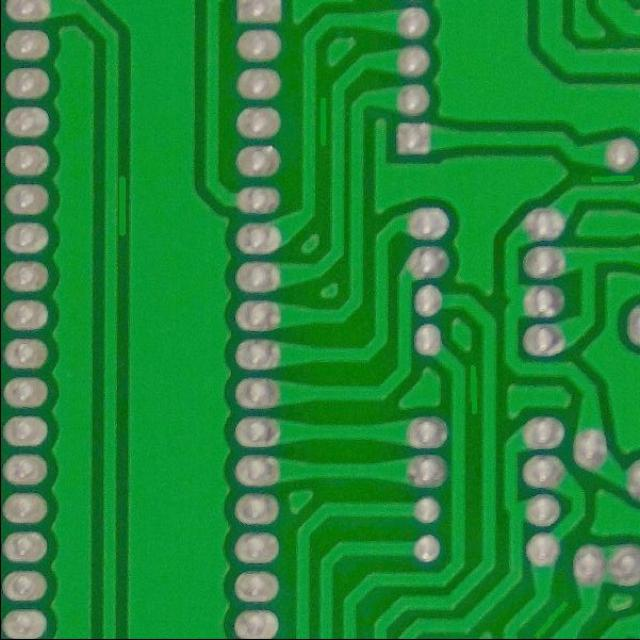Spurious_Cooper: (533, 590, 577, 634), (114, 168, 131, 242), (464, 358, 482, 417), (585, 168, 639, 186), (314, 92, 331, 149)
